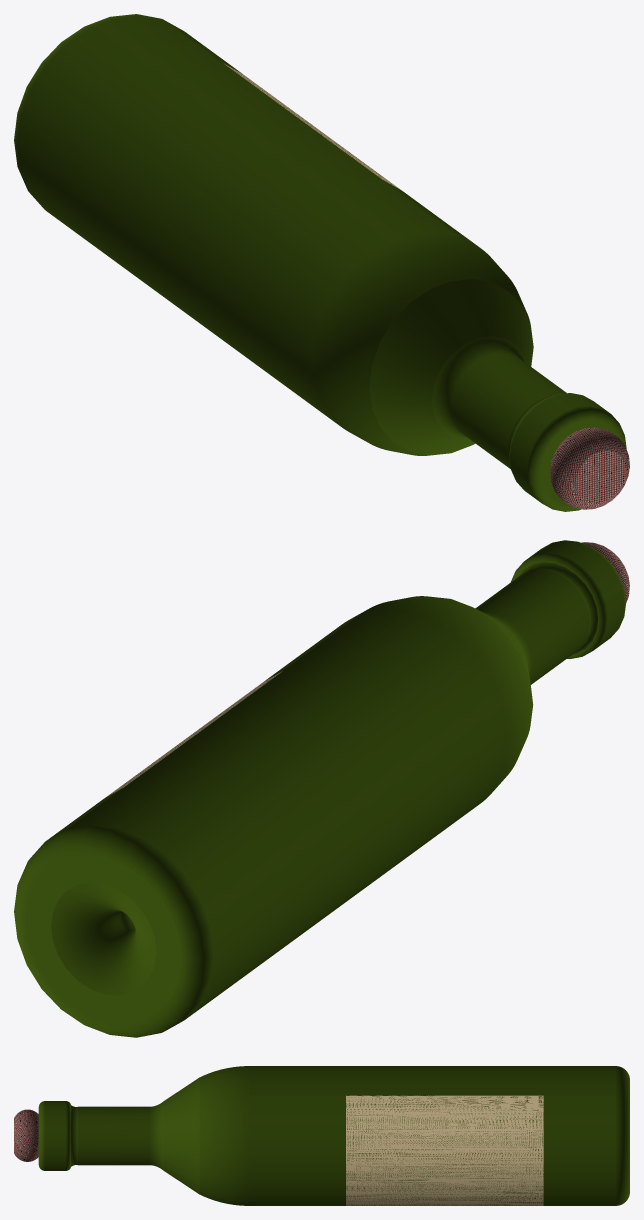
Rendered from model_scale.obj.
3 views of the same model, one above another, from view 1: azimuth 30°, elevation 25°; view 2: azimuth 150°, elevation 25°; view 3: azimuth 270°, elevation 25° (orthographic). The views are drawn at different scales.
Visible parts, largest first — view 1: mesh1_mesh1-geometry, mesh2_mesh2-geometry; view 2: mesh1_mesh1-geometry; view 3: mesh1_mesh1-geometry, mesh2_mesh2-geometry.
Part boxes in pixels (x1,y1,x2,y2): mesh1_mesh1-geometry: [14, 14, 626, 511]; mesh2_mesh2-geometry: [550, 427, 629, 509]; mesh1_mesh1-geometry: [14, 540, 625, 1037]; mesh1_mesh1-geometry: [38, 1066, 629, 1205]; mesh2_mesh2-geometry: [14, 1109, 38, 1161].
Size of the model in its own units: 0.0335 by 0.0335 by 0.1469.
